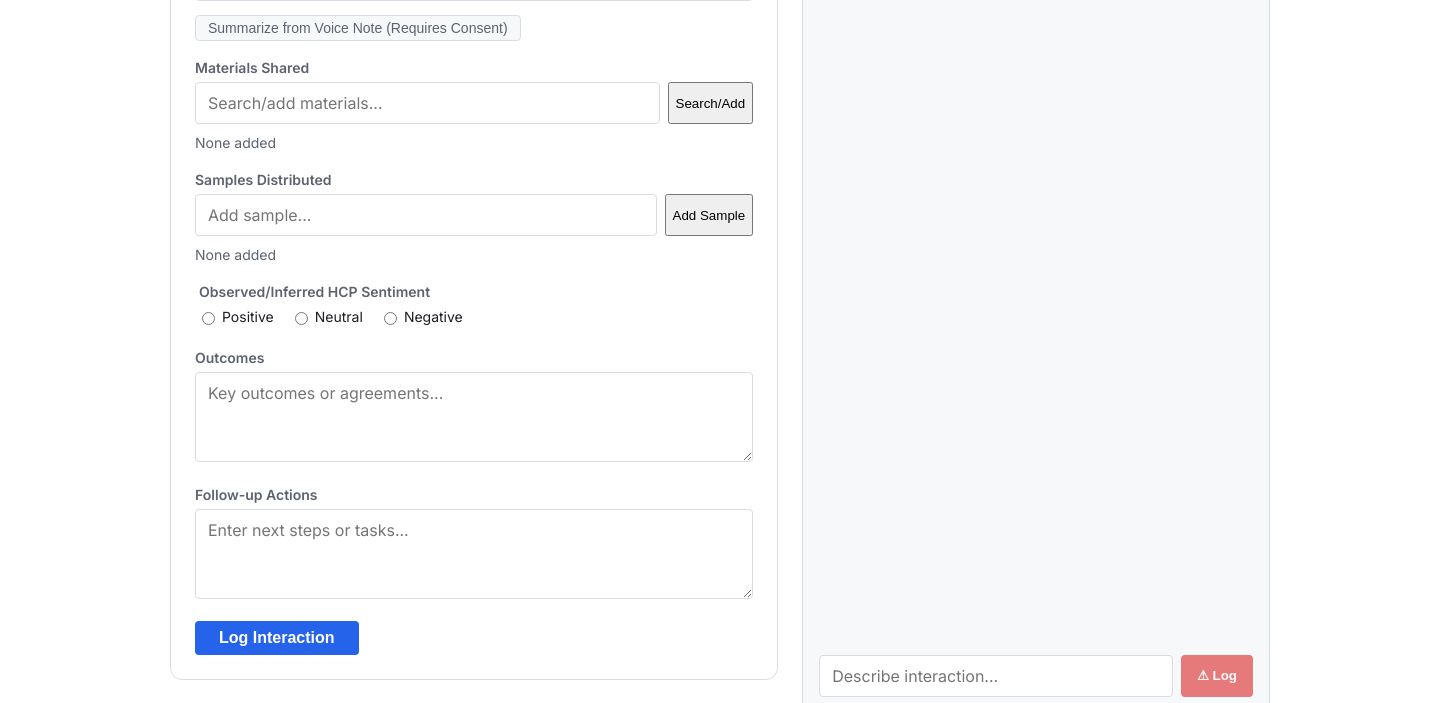
Test: LogInteractionScreen › populates the form from a chat extraction, lets the rep edit, and saves in place
(page scrolled)
Type "Met Dr. Lovelace, discussed CardioX" into the field with placeholder "Describe interaction..." at (996,676), box top-left (819, 654), bottom-right (1173, 696)
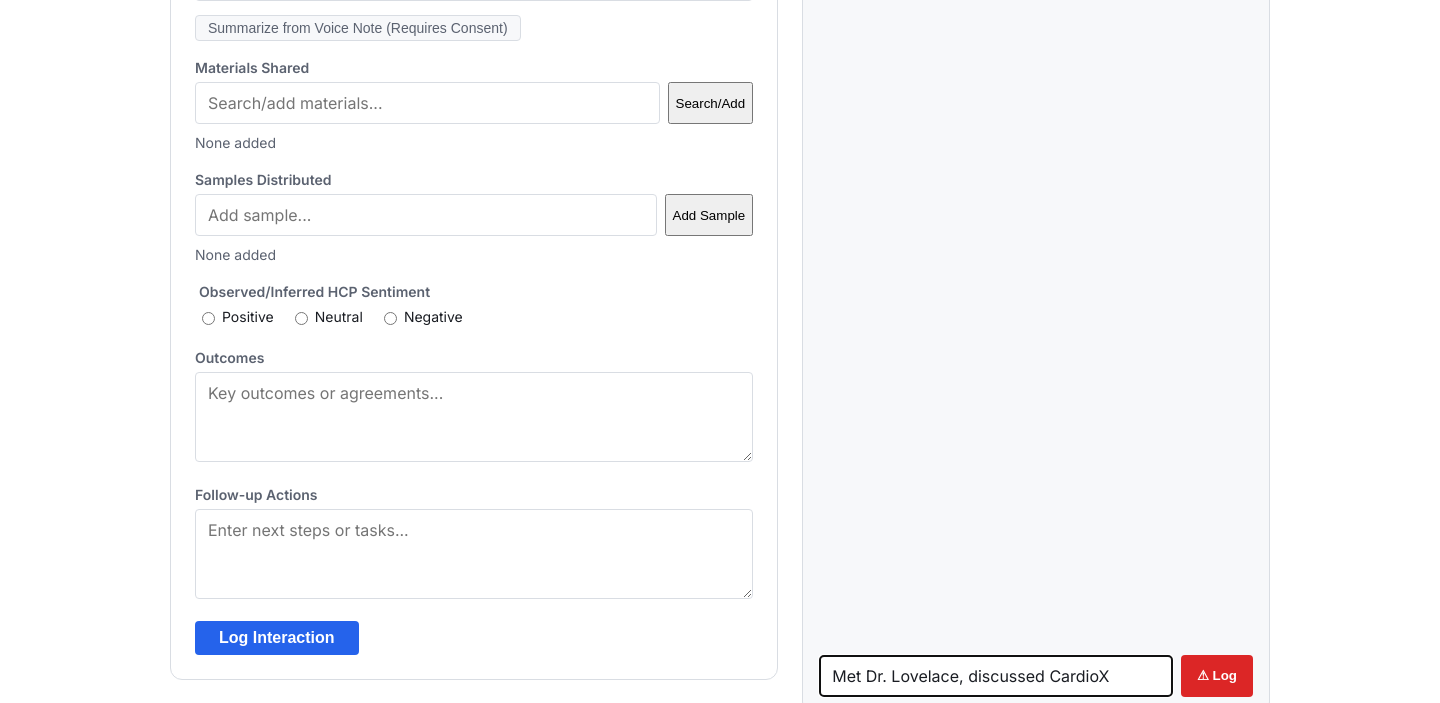
Click the button "⚠ Log" at (1217,676), box top-left (1181, 654), bottom-right (1253, 696)
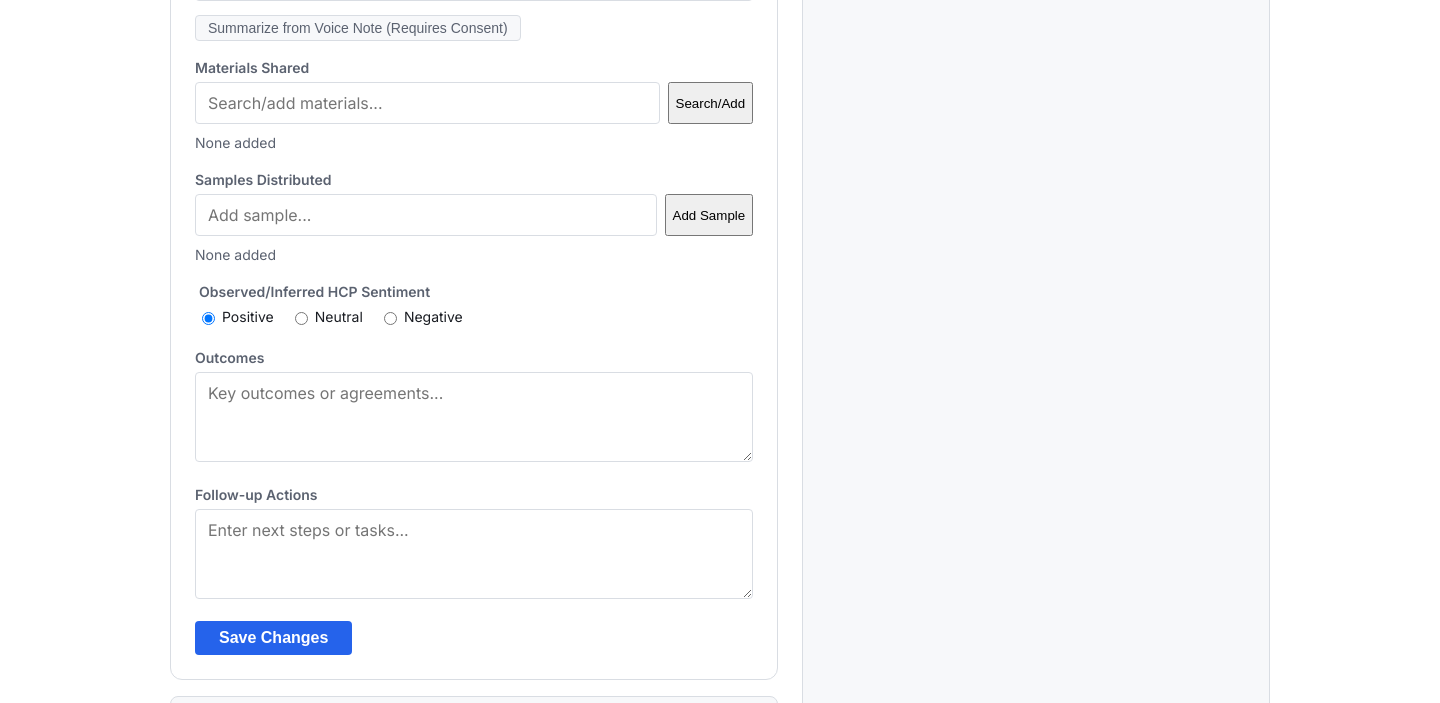
Check: the radio button labelled "Positive" is checked, box top-left (202, 312), bottom-right (215, 324)
Type "Agreed to a follow-up call" into the text box labelled "Outcomes" at (474,416), box top-left (195, 372), bottom-right (753, 462)
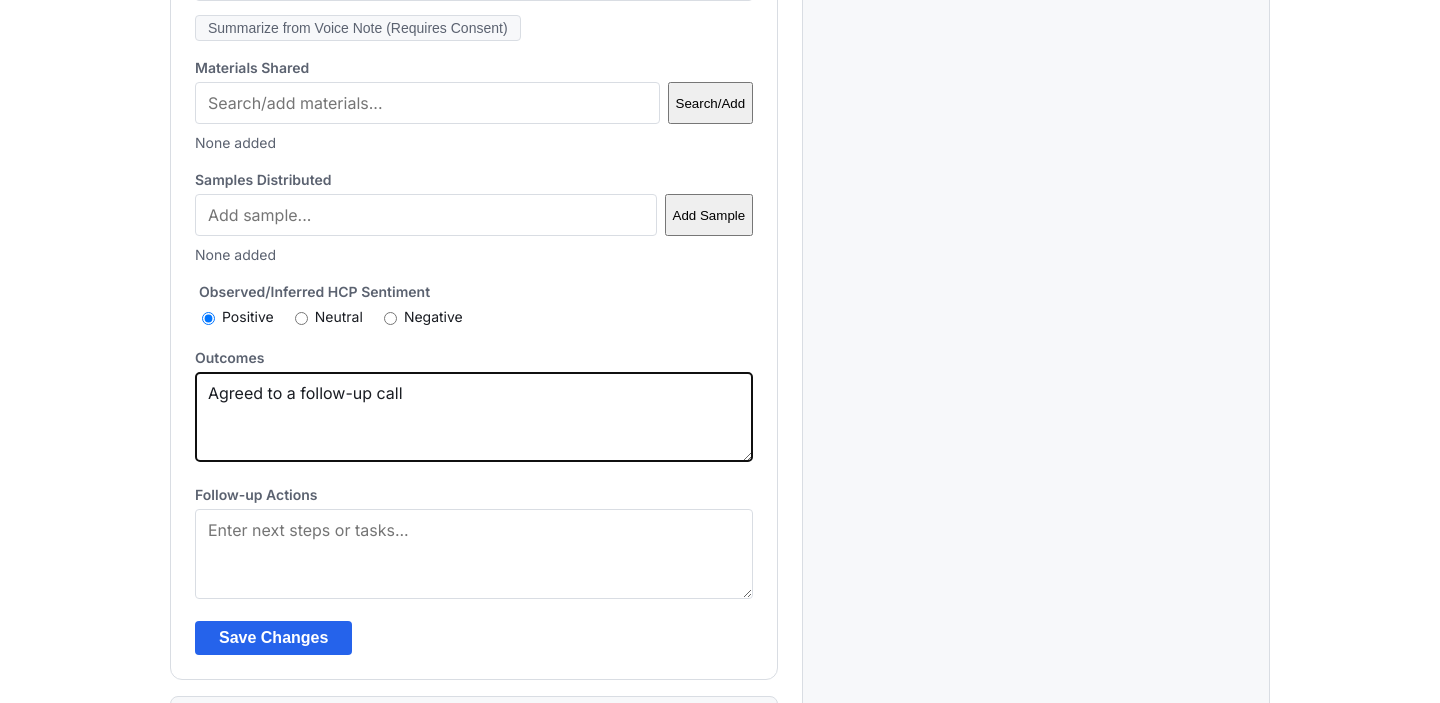
Click the button "Save Changes" at (274,638), box top-left (195, 620), bottom-right (352, 654)
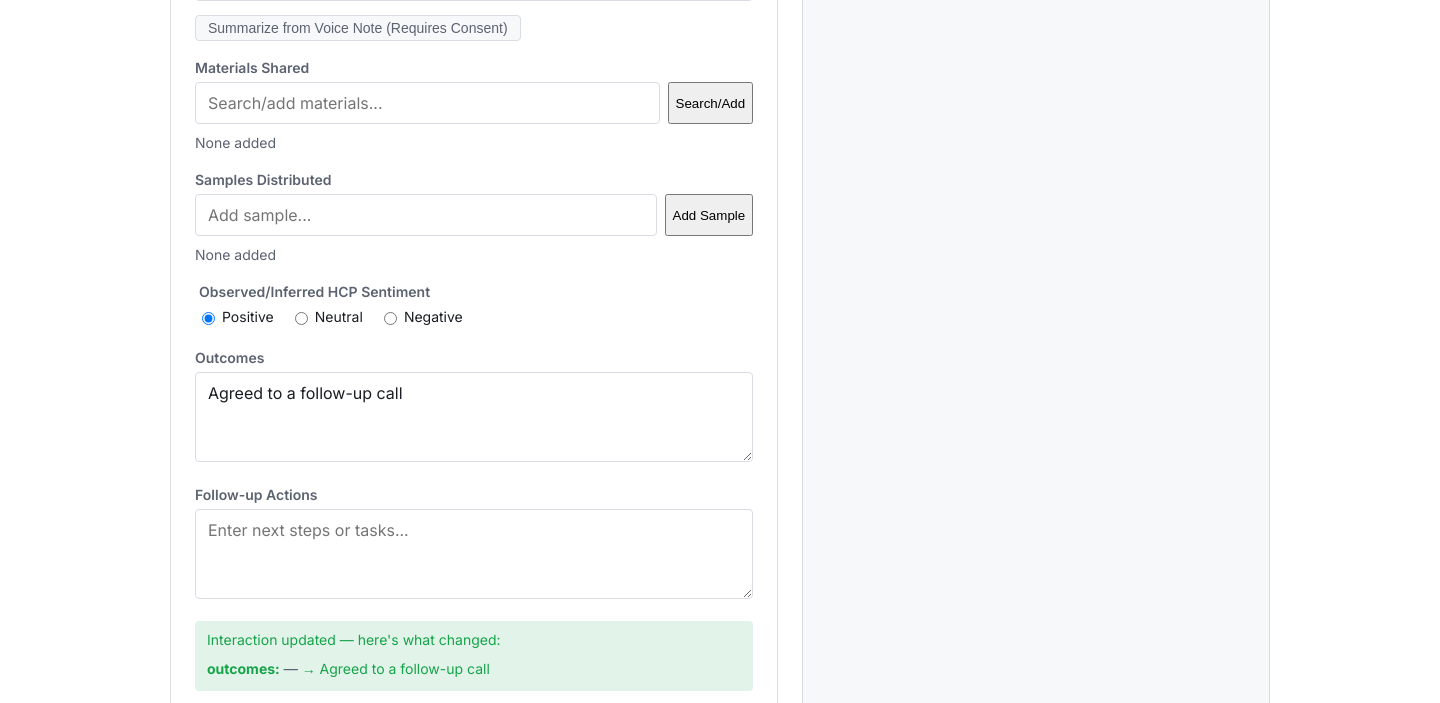
Check: the text "Agreed to a follow-up call" is shown, box top-left (320, 660), bottom-right (490, 676)
